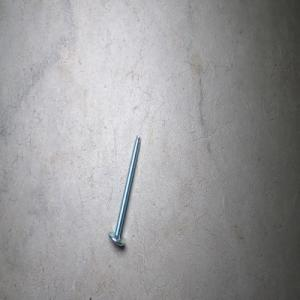Bolt: (107, 134, 141, 247)
